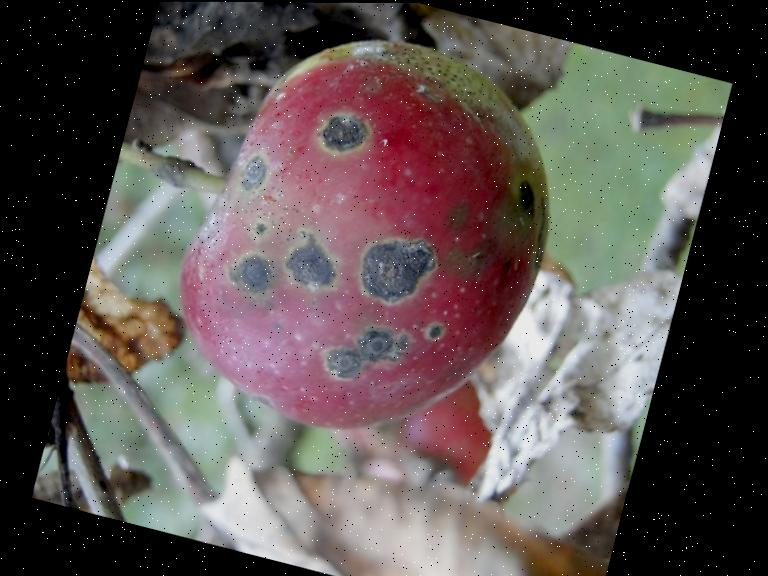SCAB: (118, 1, 603, 477)
